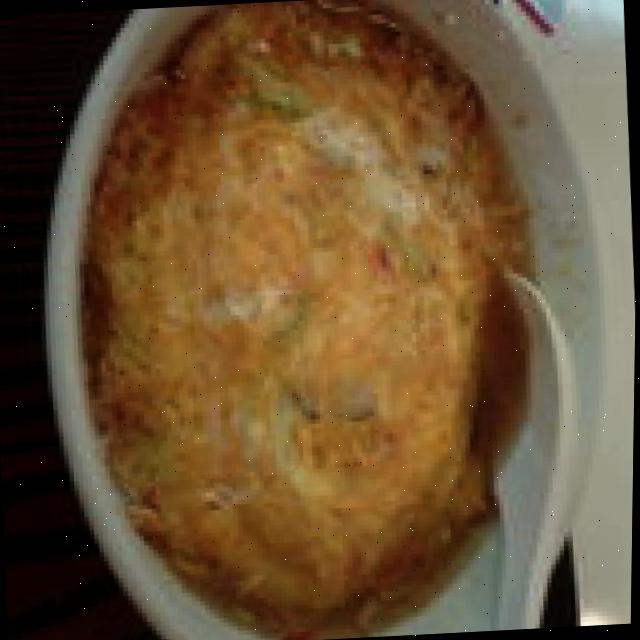面条主食: (58, 0, 566, 640)
